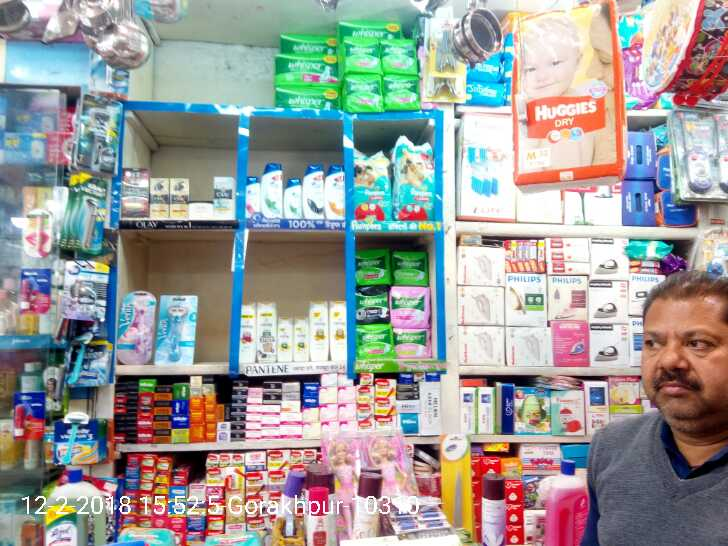gillete: (61, 178, 108, 252), (75, 97, 121, 167), (64, 260, 110, 316), (62, 337, 113, 387), (54, 411, 101, 462)
venus: (158, 295, 200, 362), (123, 293, 152, 361)
